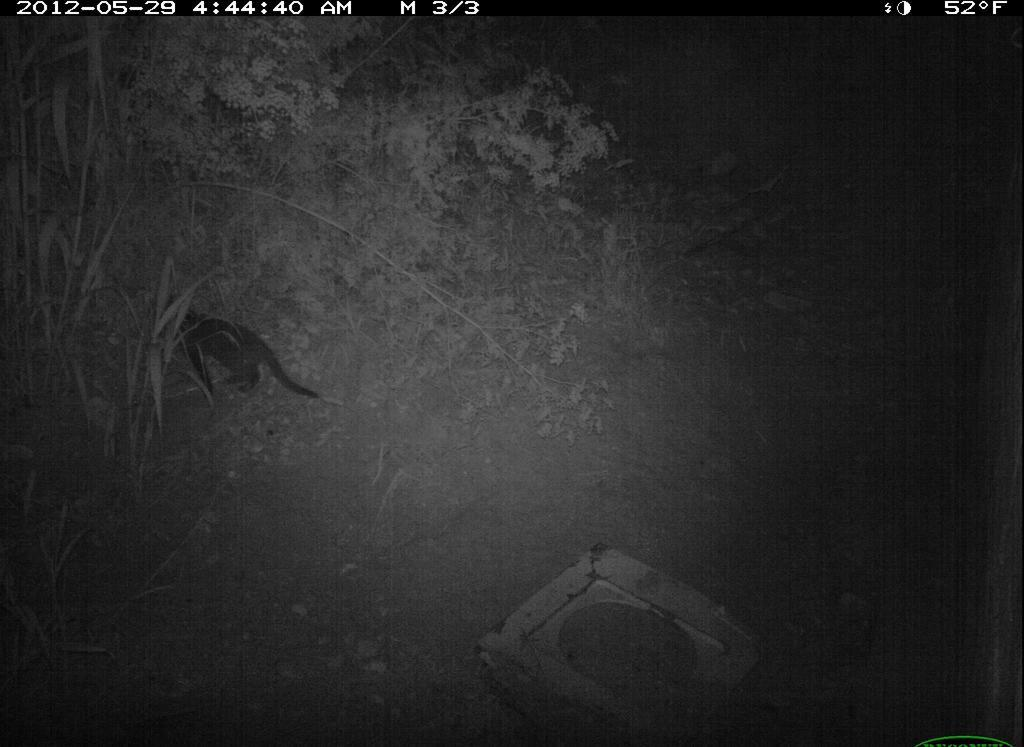cat: (145, 281, 331, 411)
